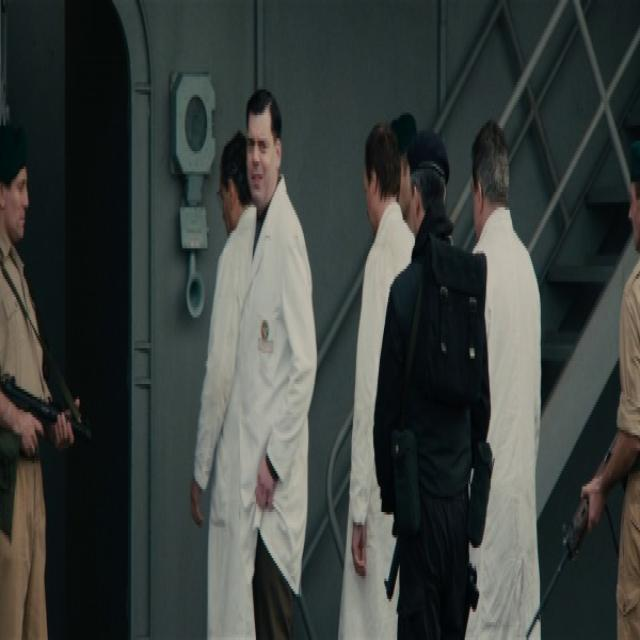rifle: (1, 367, 100, 465)
